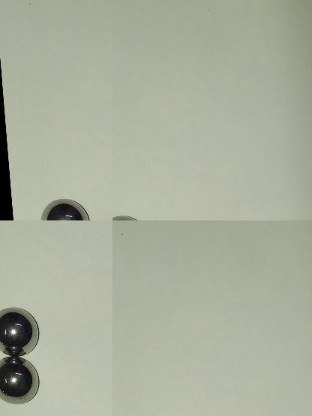ironball: (0, 301, 42, 353), (0, 354, 41, 404), (39, 194, 87, 223)
